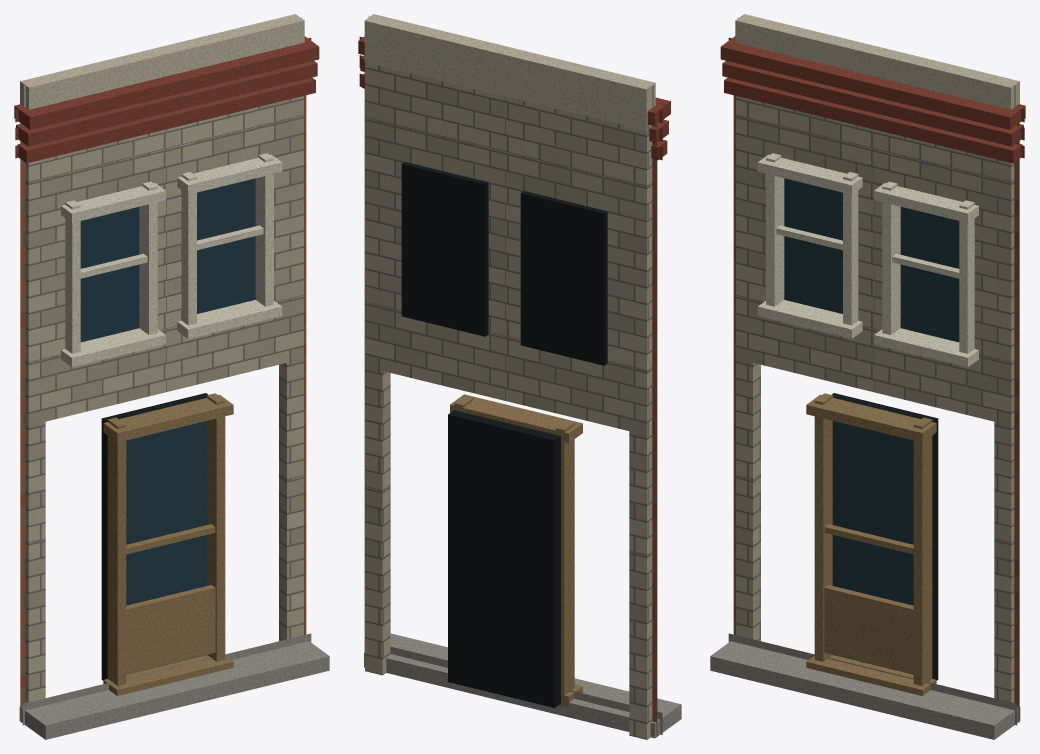
Rendered from CLSTGA14_lod2.glb.
The picture shows the model from 3 angles, left to right: view 1: azimuth 30°, elevation 25°; view 2: azimuth 150°, elevation 25°; view 3: azimuth 330°, elevation 25°; orthographic projection. The views are drawn at different scales.
Visible parts, largest first — view 1: CLSTGA14_FRONT_LOD2; view 2: CLSTGA14_FRONT_LOD2; view 3: CLSTGA14_FRONT_LOD2.
Part boxes in pixels (left/top/right/bottom): CLSTGA14_FRONT_LOD2: left=14, top=14, right=329, bottom=739; CLSTGA14_FRONT_LOD2: left=358, top=14, right=681, bottom=739; CLSTGA14_FRONT_LOD2: left=710, top=14, right=1025, bottom=739.
Size of the model in its own units: 3.44 by 7.05 by 0.68.
10 materials, 8 textured.
